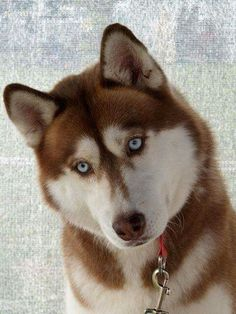husky: (4, 20, 235, 310)
